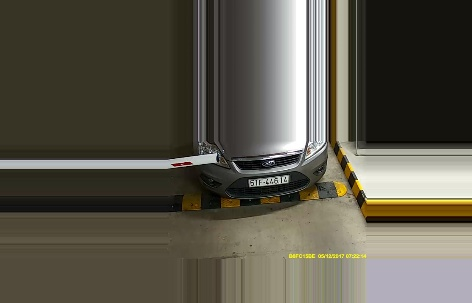plate: (249, 176, 288, 187)
